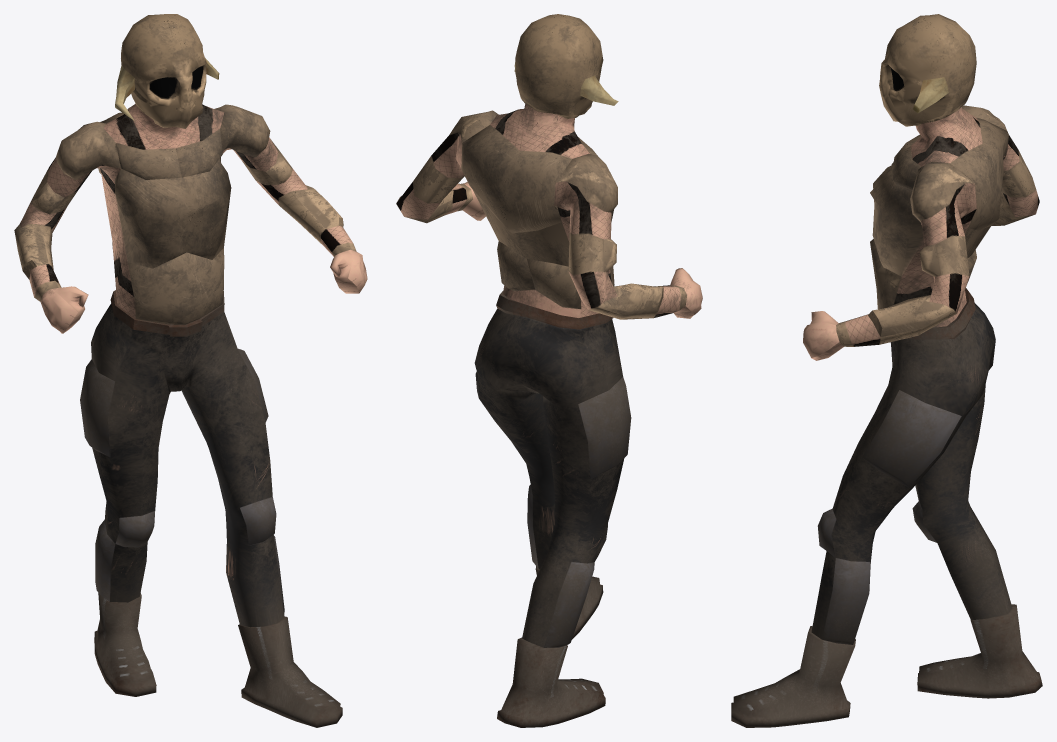
Rendered from Anim_ataque_d1_npc1.0029.obj.
The picture shows the model from 3 angles, left to right: view 1: azimuth 30°, elevation 25°; view 2: azimuth 150°, elevation 25°; view 3: azimuth 270°, elevation 25°; orthographic projection.
Parts seen in each view (by area): view 1: NPC2; view 2: NPC2; view 3: NPC2.
Part boxes in pixels (<box>): NPC2: <box>14,14,367,727</box>; NPC2: <box>396,14,702,727</box>; NPC2: <box>731,14,1042,727</box>.
Size of the model in its own units: 4.21 by 9.47 by 3.94.
